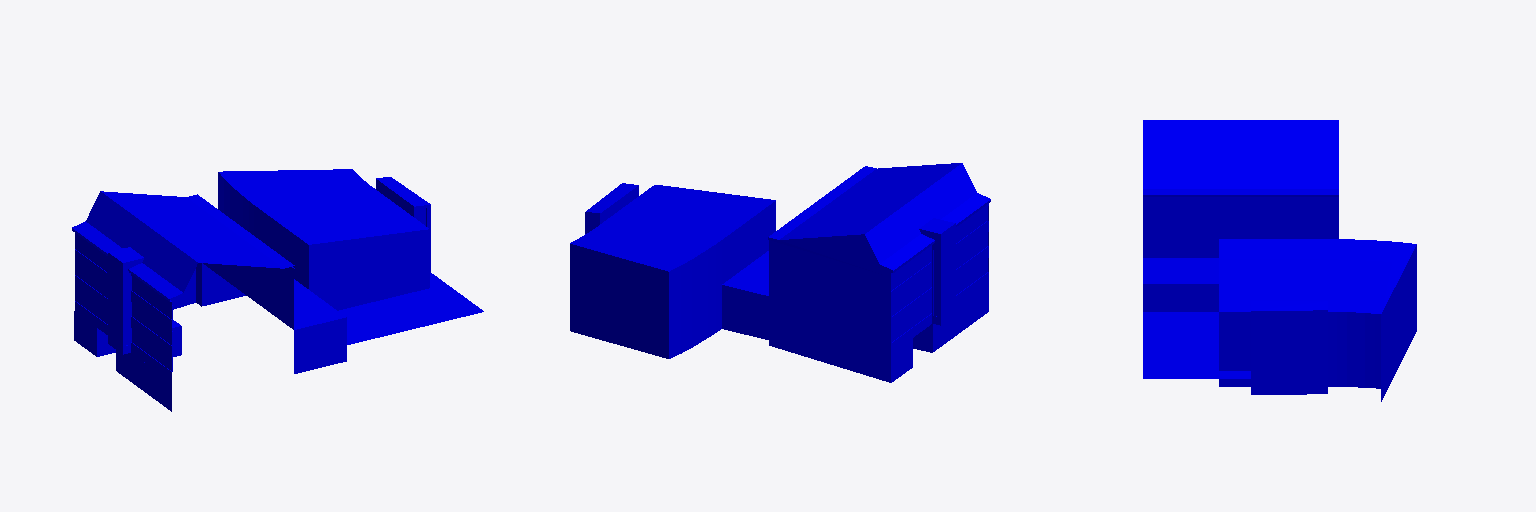
The model's file is isokatu_19.obj.
3 views of the same model, side by side, from view 1: azimuth 30°, elevation 25°; view 2: azimuth 150°, elevation 25°; view 3: azimuth 270°, elevation 25° (orthographic).
Visible parts, largest first — view 1: Object_1; view 2: Object_1; view 3: Object_1.
Part boxes in pixels (bbox=[...]): Object_1: bbox=[72, 169, 483, 411]; Object_1: bbox=[570, 163, 990, 382]; Object_1: bbox=[1143, 120, 1416, 401].
Bounding box in the file's own units: 39.76 × 17.53 × 29.39.